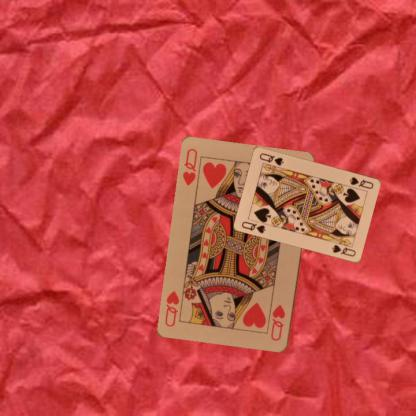Qh: (268, 302, 287, 343), (180, 146, 199, 187)
Qs: (239, 218, 267, 235), (347, 174, 375, 190)
